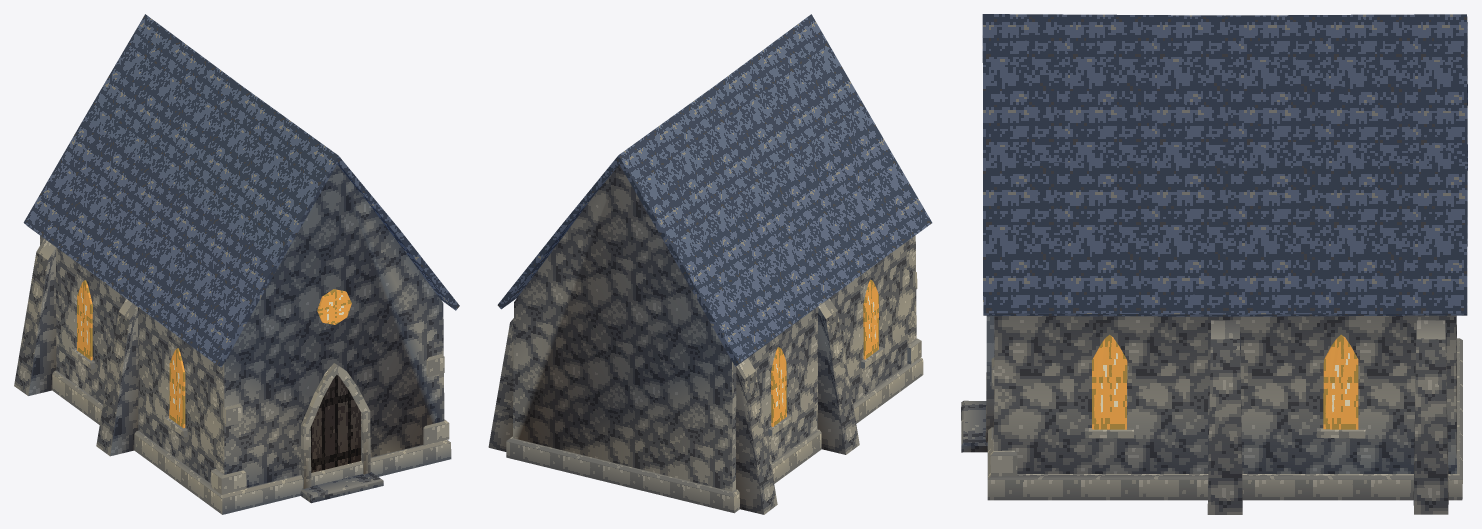
File: vlg.chapel__plain.glb
3 renders of one model, left to right at view 1: azimuth 30°, elevation 25°; view 2: azimuth 150°, elevation 25°; view 3: azimuth 270°, elevation 25°, orthographic. The views are drawn at different scales.
Visible parts, largest first — view 1: kit_roof, kit_walls, kit_stonework, kit_fittings; view 2: kit_walls, kit_roof, kit_stonework, kit_fittings; view 3: kit_roof, kit_walls, kit_stonework, kit_fittings.
Part boxes in pixels (x1,y1,x2,y2): kit_roof: [23, 14, 459, 367]; kit_walls: [40, 164, 444, 487]; kit_stonework: [14, 238, 451, 514]; kit_fittings: [71, 280, 383, 503]; kit_walls: [513, 165, 916, 491]; kit_roof: [497, 14, 932, 366]; kit_stonework: [488, 272, 923, 514]; kit_fittings: [768, 279, 884, 435]; kit_roof: [982, 14, 1467, 316]; kit_walls: [993, 315, 1456, 473]; kit_stonework: [987, 320, 1462, 514]; kit_fittings: [961, 315, 1365, 452].
Bounding box in the file's own units: 6.91 × 7.94 × 8.75.
6 materials, 6 textured.
